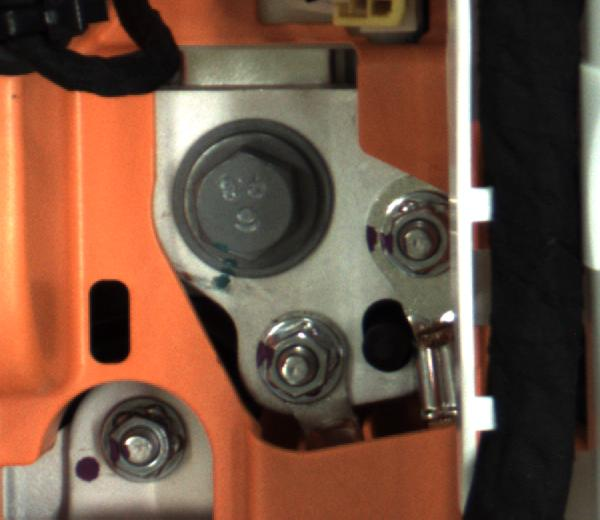nut_b: (153, 111, 344, 286)
screw_s: (247, 316, 355, 419), (371, 190, 465, 284), (100, 399, 194, 478)
